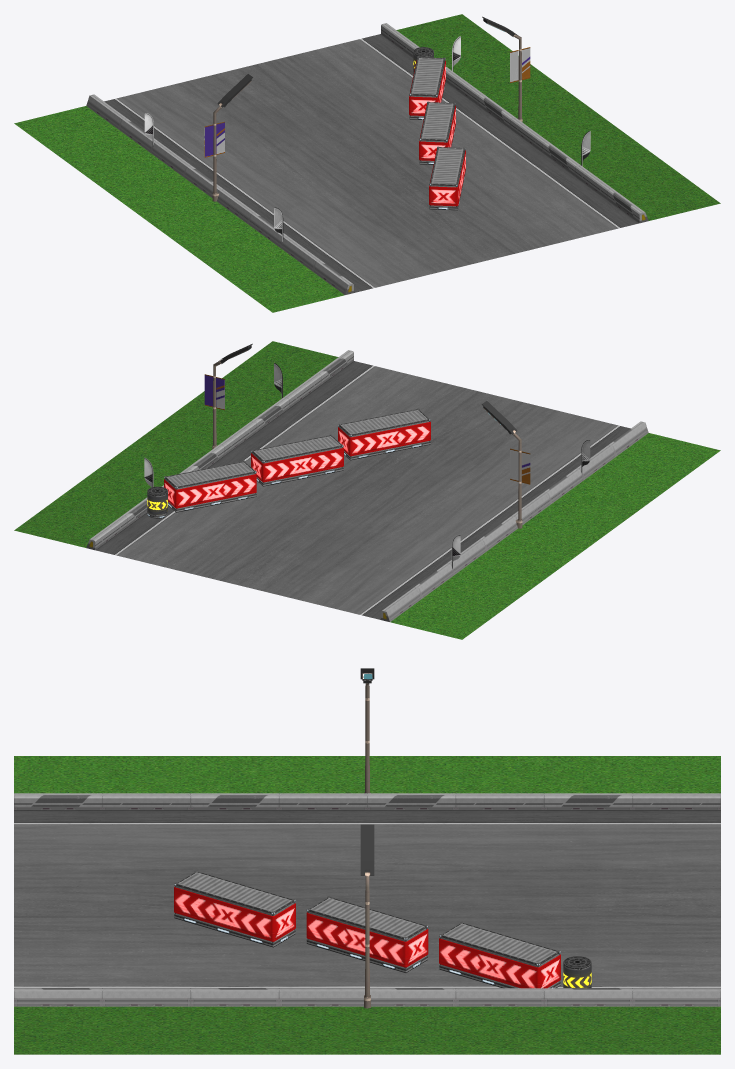
File: T1 - Ground Obstacle 3.fbx
3 renders of one model, top to bottom at view 1: azimuth 30°, elevation 25°; view 2: azimuth 150°, elevation 25°; view 3: azimuth 270°, elevation 25°, orthographic. The views are drawn at different scales.
Visible parts, largest first — view 1: standard_road, standard_ground_grass, wall_straight_ground, frame_2, pro_streetlight_banner_1, frame_1, frame, pro_streetlight_banner, prop_sta_street_flags, cover_2, cover_1, cover; view 2: standard_road, standard_ground_grass, wall_straight_ground, cover_1, cover_2, cover, frame, frame_1, frame_2, pro_streetlight_banner_1, pro_streetlight_banner, prop_sta_street_flags; view 3: standard_road, standard_ground_grass, wall_straight_ground, cover_2, cover_1, frame_2, cover, frame_1, frame, pro_streetlight_banner, pro_streetlight_banner_1.
Part boxes in pixels (x1,y1,x2,y2): standard_road: (104, 34, 639, 292); standard_ground_grass: (14, 14, 720, 312); wall_straight_ground: (86, 23, 648, 294); frame_2: (429, 146, 465, 210); pro_streetlight_banner_1: (204, 74, 252, 201); frame_1: (419, 101, 455, 164); frame: (409, 56, 445, 119); pro_streetlight_banner: (482, 16, 530, 122); prop_sta_street_flags: (144, 36, 590, 241); cover_2: (429, 150, 465, 206); cover_1: (419, 105, 455, 160); cover: (409, 60, 445, 115); standard_road: (95, 361, 630, 619); standard_ground_grass: (14, 341, 720, 639); wall_straight_ground: (86, 350, 648, 621); cover_1: (251, 447, 343, 482); cover_2: (338, 421, 430, 456); cover: (164, 473, 256, 508); frame: (164, 460, 256, 512); frame_1: (251, 434, 343, 486); frame_2: (338, 408, 430, 460); pro_streetlight_banner_1: (482, 401, 530, 528); pro_streetlight_banner: (204, 343, 252, 449); prop_sta_street_flags: (144, 363, 590, 568); standard_road: (14, 810, 720, 988); standard_ground_grass: (14, 756, 720, 1054); wall_straight_ground: (14, 793, 720, 1006); cover_2: (174, 886, 295, 941); cover_1: (306, 912, 428, 967); frame_2: (174, 870, 295, 947); cover: (439, 938, 560, 988); frame_1: (306, 896, 428, 972); frame: (439, 921, 560, 988); pro_streetlight_banner: (360, 824, 374, 1008); pro_streetlight_banner_1: (360, 668, 374, 793).
Size of the model in its own units: 6400 by 1591 by 6400.
